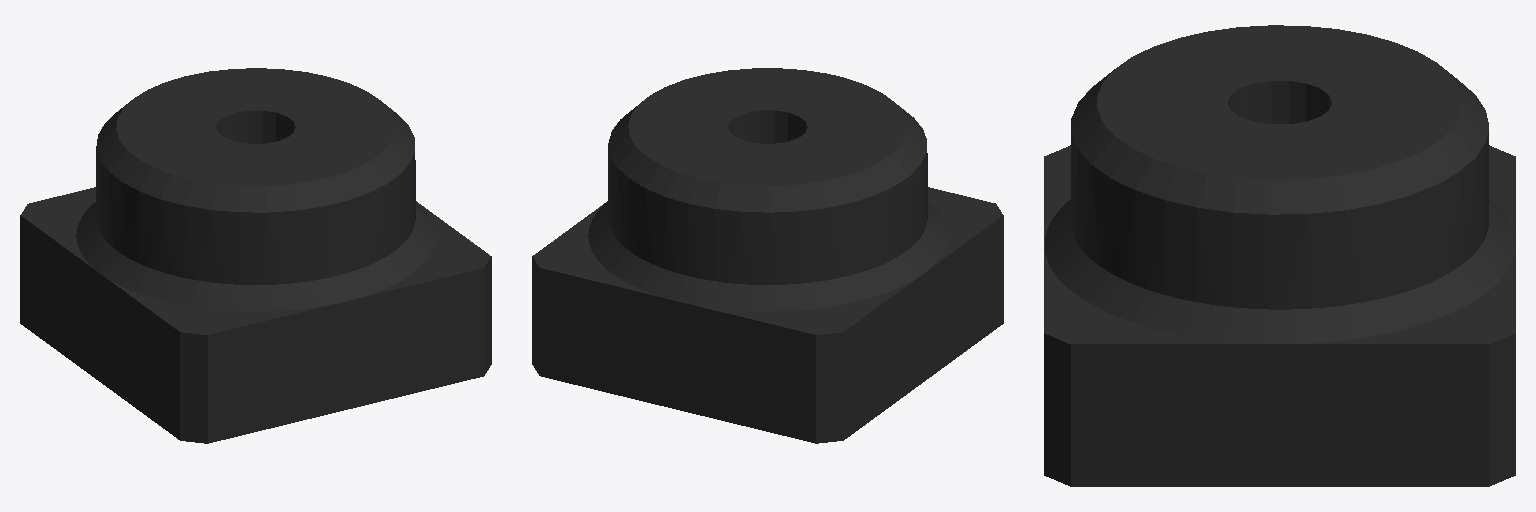
The robot description file, URDF, robot "try.SLDASM":
<?xml version="1.0" encoding="utf-8"?>
<!-- This URDF was automatically created by SolidWorks to URDF Exporter! Originally created by [author] ([email redacted]) 
     Commit Version: 1.6.0-4-g7f85cfe  Build Version: 1.6.7995.38578
     For more information, please see http://wiki.ros.org/sw_urdf_exporter -->
<robot
  name="try.SLDASM">
  <link
    name="base_link">
    <inertial>
      <origin
        xyz="-0.00455355425015718 -0.0435599527701323 -0.00619543145509416"
        rpy="0 0 0" />
      <mass
        value="0.000389416654106519" />
      <inertia
        ixx="3.29445501118101E-09"
        ixy="4.03896783473159E-25"
        ixz="2.60411084548167E-25"
        iyy="3.29445501118101E-09"
        iyz="-8.3754046608655E-25"
        izz="4.44151178822013E-09" />
    </inertial>
    <visual>
      <origin
        xyz="0 0 0"
        rpy="0 0 0" />
      <geometry>
        <mesh
          filename="package://try.SLDASM/meshes/base_link.STL" />
      </geometry>
      <material
        name="">
        <color
          rgba="0.223529411764706 0.223529411764706 0.223529411764706 1" />
      </material>
    </visual>
    <collision>
      <origin
        xyz="0 0 0"
        rpy="0 0 0" />
      <geometry>
        <mesh
          filename="package://try.SLDASM/meshes/base_link.STL" />
      </geometry>
    </collision>
  </link>
</robot>

--- Render facts (derived) ---
Views: 3 orthographic renders of the robot side by side, from view 1: azimuth 30°, elevation 25°; view 2: azimuth 150°, elevation 25°; view 3: azimuth 270°, elevation 25°.
Robot: try.SLDASM — 1 links, 0 joints (none); root link base_link; default pose: every joint at zero.
Links seen in each view (by area): view 1: base_link; view 2: base_link; view 3: base_link.
Link boxes in pixels (box(x1,y1,x2,y2)): base_link: box(20, 68, 491, 443); base_link: box(532, 68, 1003, 443); base_link: box(1044, 25, 1515, 486).
Size in the robot's own frame: 0.009 by 0.009 by 0.006 metres.
Meshes: 1 distinct files referenced, 1 mesh visuals loaded (1 binary STL).